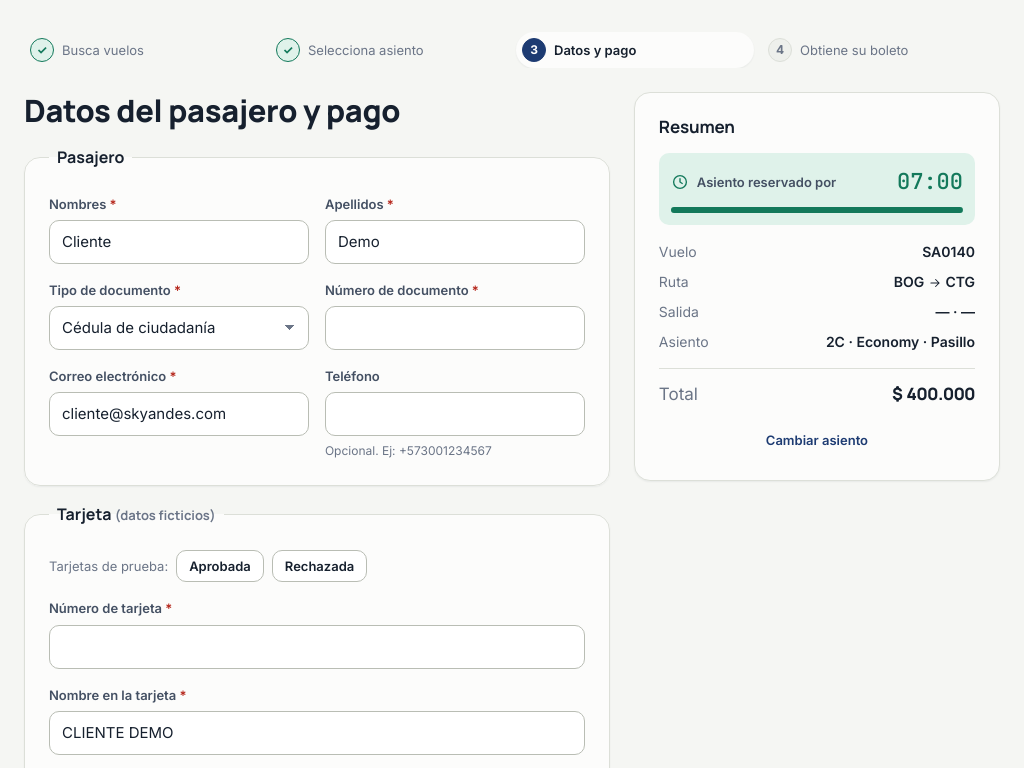
Test case: CheckoutPage (HU3) › valida los datos del pasajero y la tarjeta (Luhn) antes de pagar
Type "1234 5678 9012 3456" into the field labelled "Número de tarjeta *".
click(317, 647); type("1234 5678 9012 3456")  # box [49, 625, 585, 669]
(page scrolled)
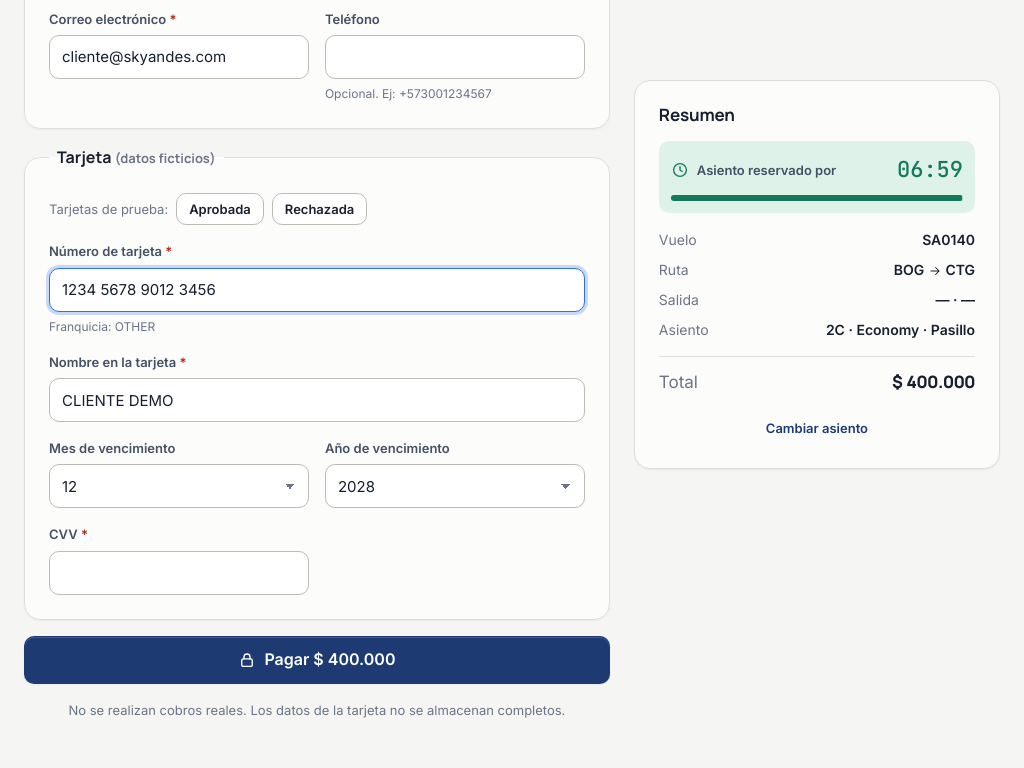
Click the button "Pagar $ 400.000".
click(317, 660)  # box [24, 636, 610, 684]
(page scrolled)
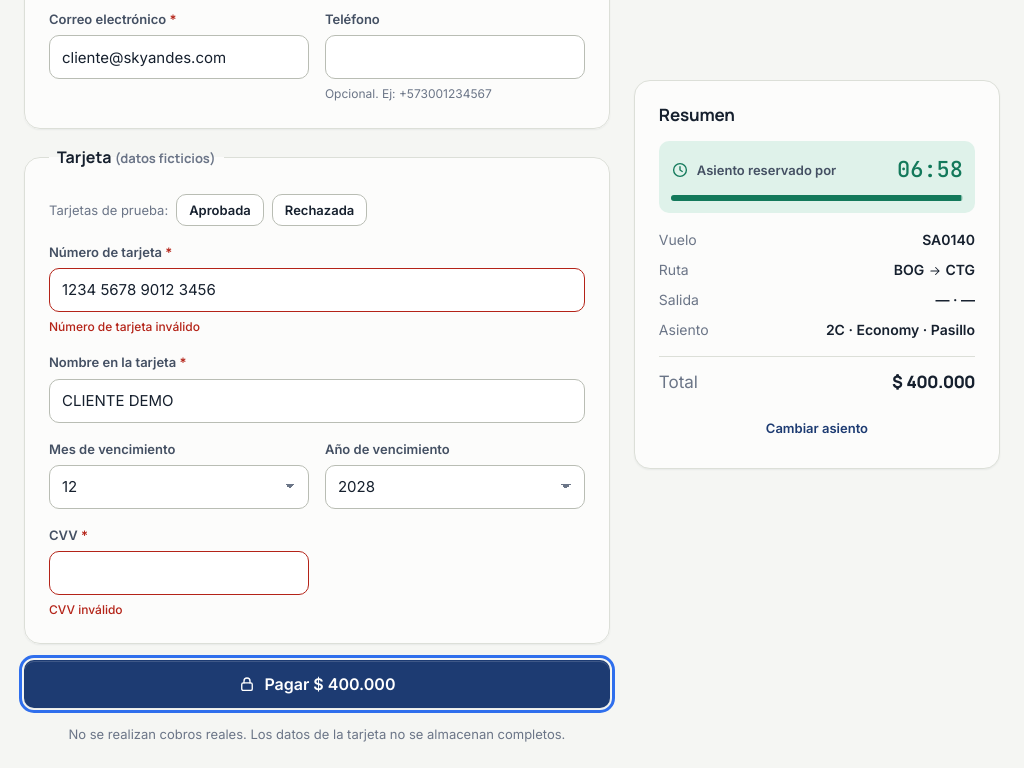
Expected: the text "Número de tarjeta inválido" is shown, [49, 319, 200, 334]
